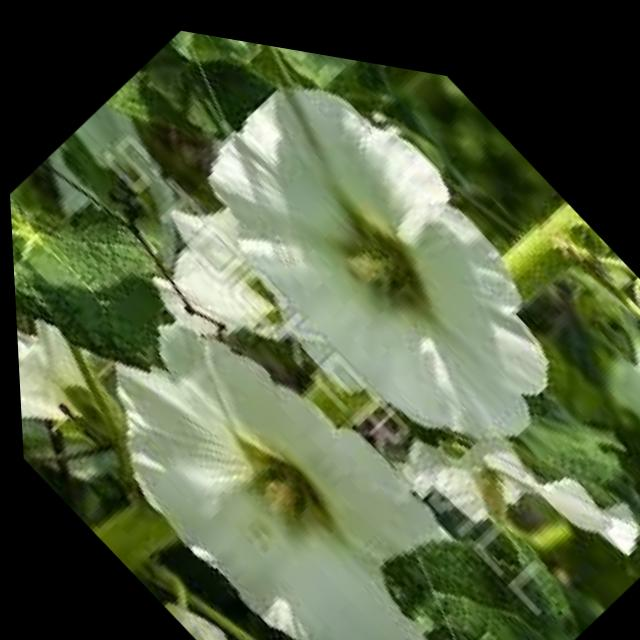Flower: (142, 19, 618, 520), (33, 235, 495, 640)
